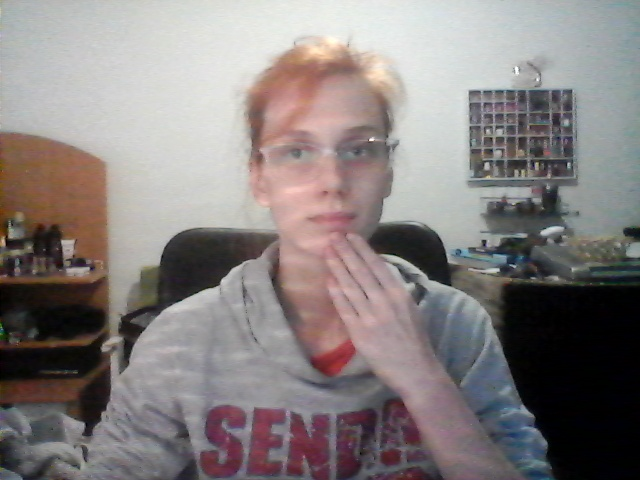dakujem: (305, 228, 456, 384)
